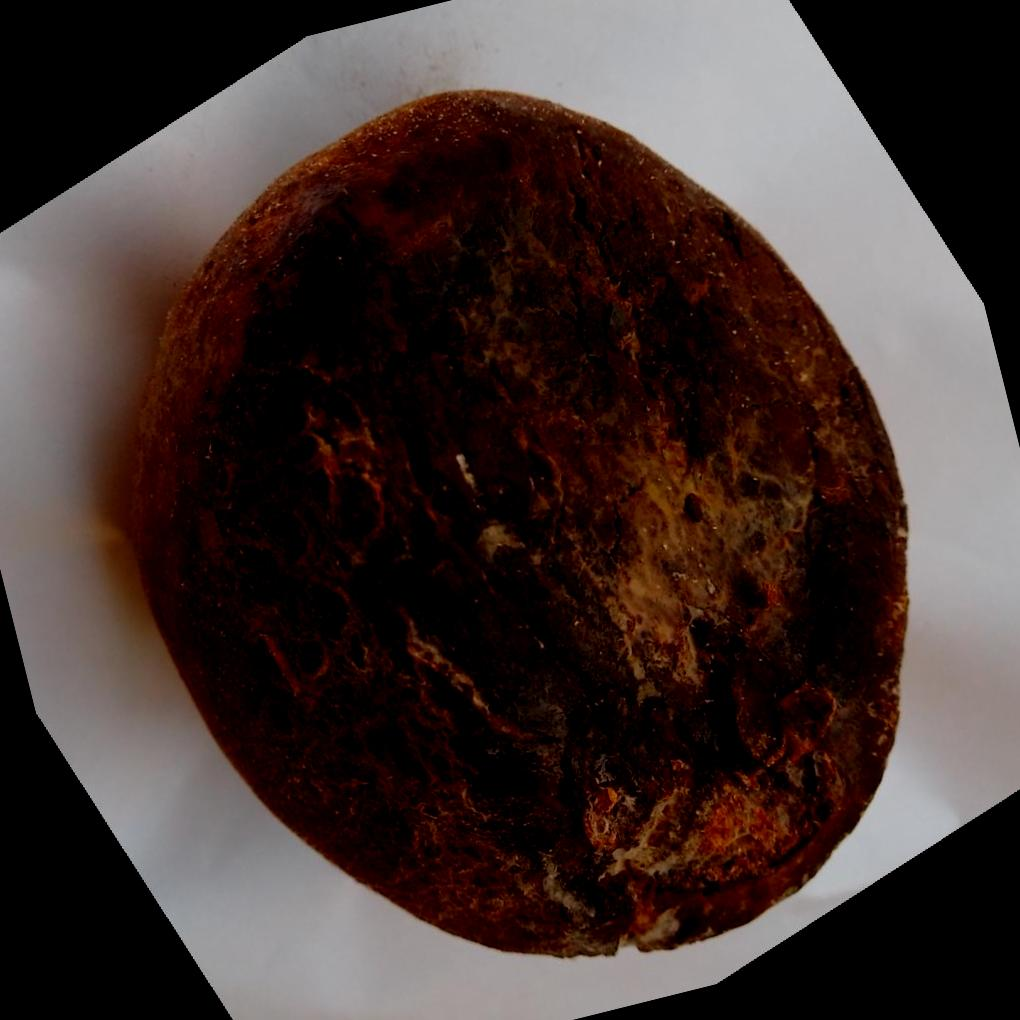FreshOrange: (126, 83, 910, 958)
